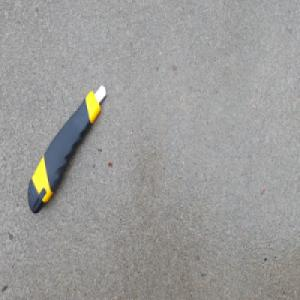Cutter: (27, 82, 107, 214)
